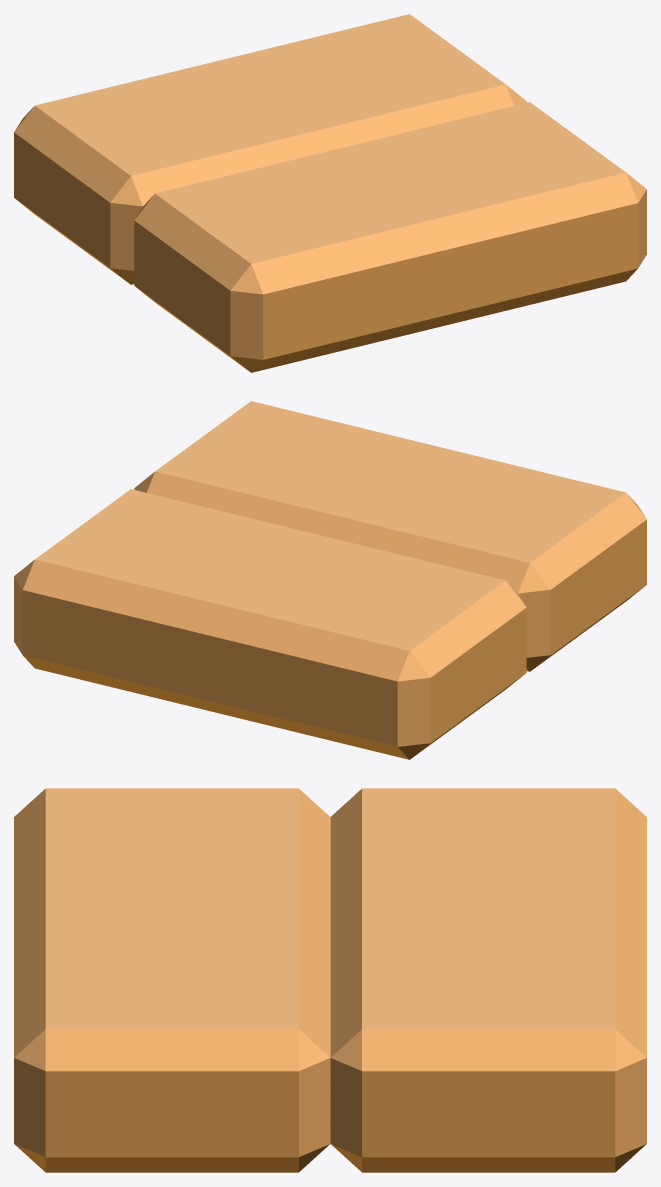
File: m_kub_clay_flatTwoBrick.FBX
The picture shows the model from 3 angles, top to bottom: view 1: azimuth 30°, elevation 25°; view 2: azimuth 150°, elevation 25°; view 3: azimuth 270°, elevation 25°; orthographic projection. The views are drawn at different scales.
Visible parts, largest first — view 1: m_kub_clay_flatTwoBrick; view 2: m_kub_clay_flatTwoBrick; view 3: m_kub_clay_flatTwoBrick.
Boxes of the visible parts, left/top/right/bottom form: m_kub_clay_flatTwoBrick: left=14, top=14, right=646, bottom=372; m_kub_clay_flatTwoBrick: left=14, top=401, right=646, bottom=759; m_kub_clay_flatTwoBrick: left=14, top=788, right=646, bottom=1172.
Size of the model in its own units: 2 by 0.5 by 2.
